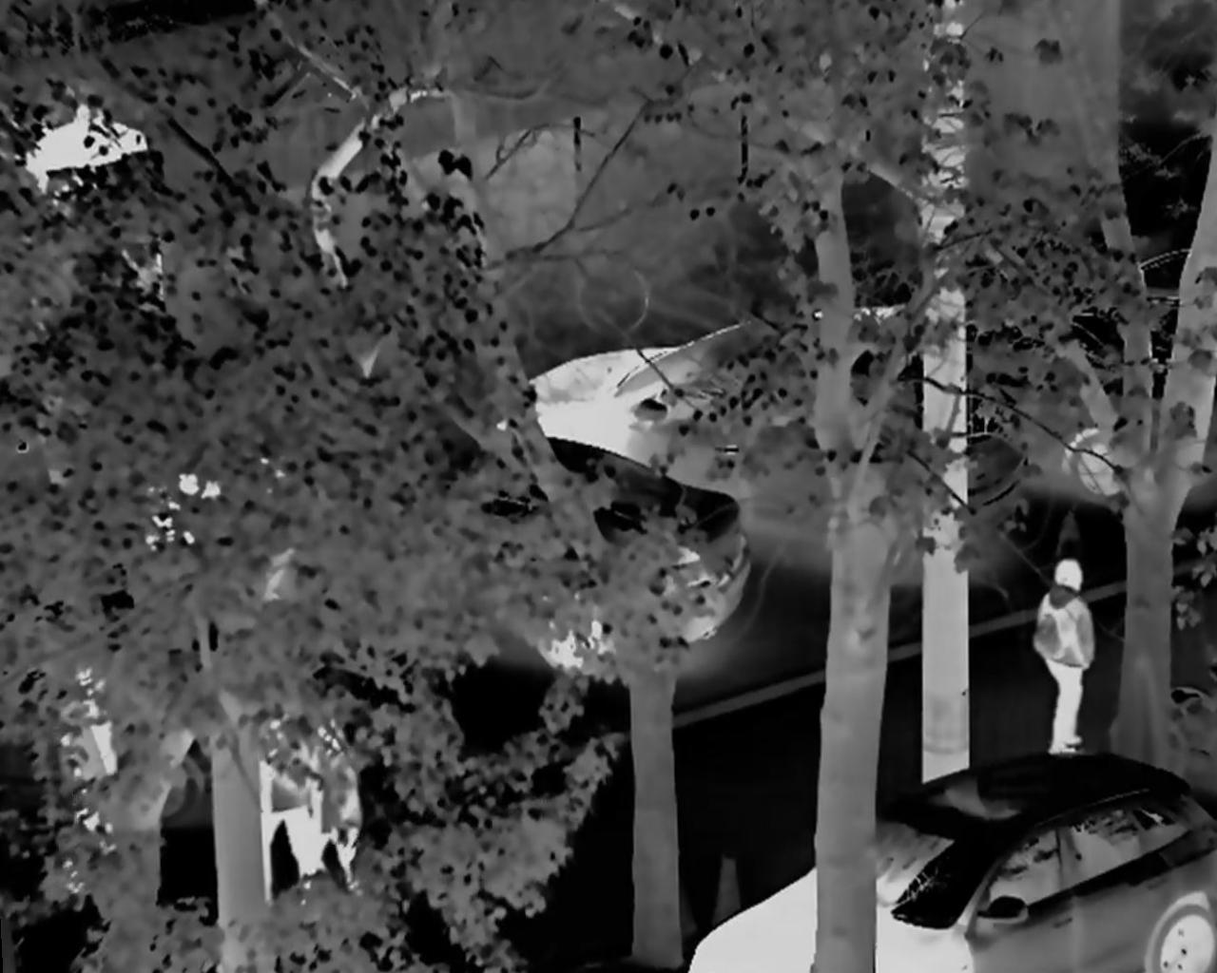person: (1033, 550, 1098, 763), (253, 699, 309, 926), (305, 726, 365, 925)
